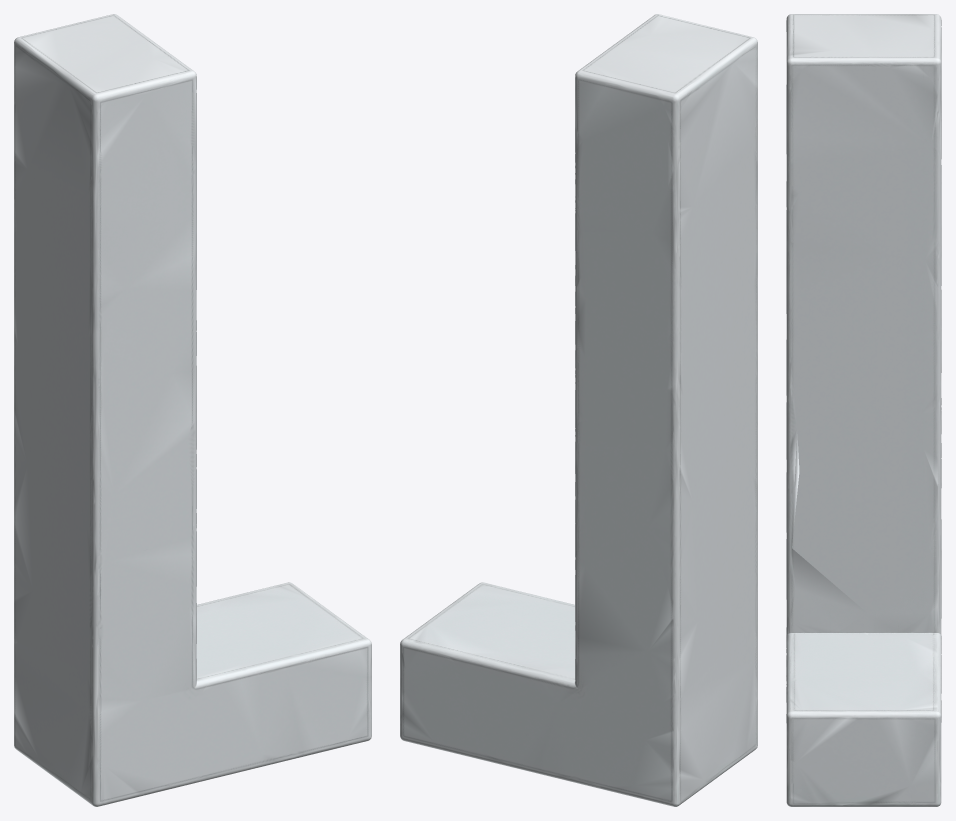
The picture shows the model from 3 angles, left to right: view 1: azimuth 30°, elevation 25°; view 2: azimuth 150°, elevation 25°; view 3: azimuth 270°, elevation 25°; orthographic projection. The views are drawn at different scales.
Visible parts, largest first — view 1: Mesh_0.001; view 2: Mesh_0.001; view 3: Mesh_0.001.
Part boxes in pixels (x1=…): Mesh_0.001: x1=14, y1=14, x2=371, y2=806; Mesh_0.001: x1=400, y1=14, x2=757, y2=806; Mesh_0.001: x1=786, y1=14, x2=941, y2=806.
Bounding box in the file's own units: 0.0821 × 0.2 × 0.042.
1 material, 1 textured.
